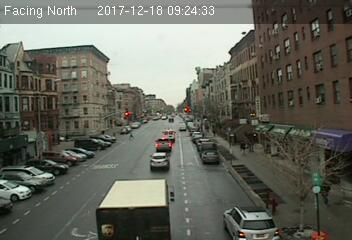car: (224, 204, 281, 240), (150, 151, 168, 168), (201, 149, 220, 164), (155, 138, 172, 150)
truck: (161, 130, 175, 142)
ups: (94, 177, 175, 239)
